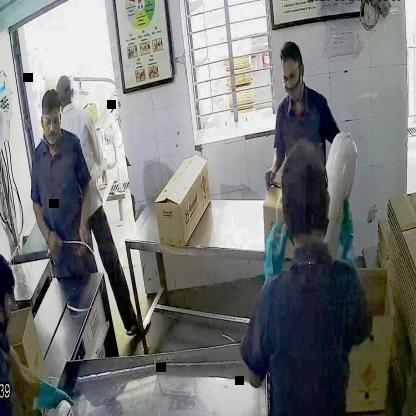goggles: (280, 66, 304, 90), (40, 110, 62, 130)
